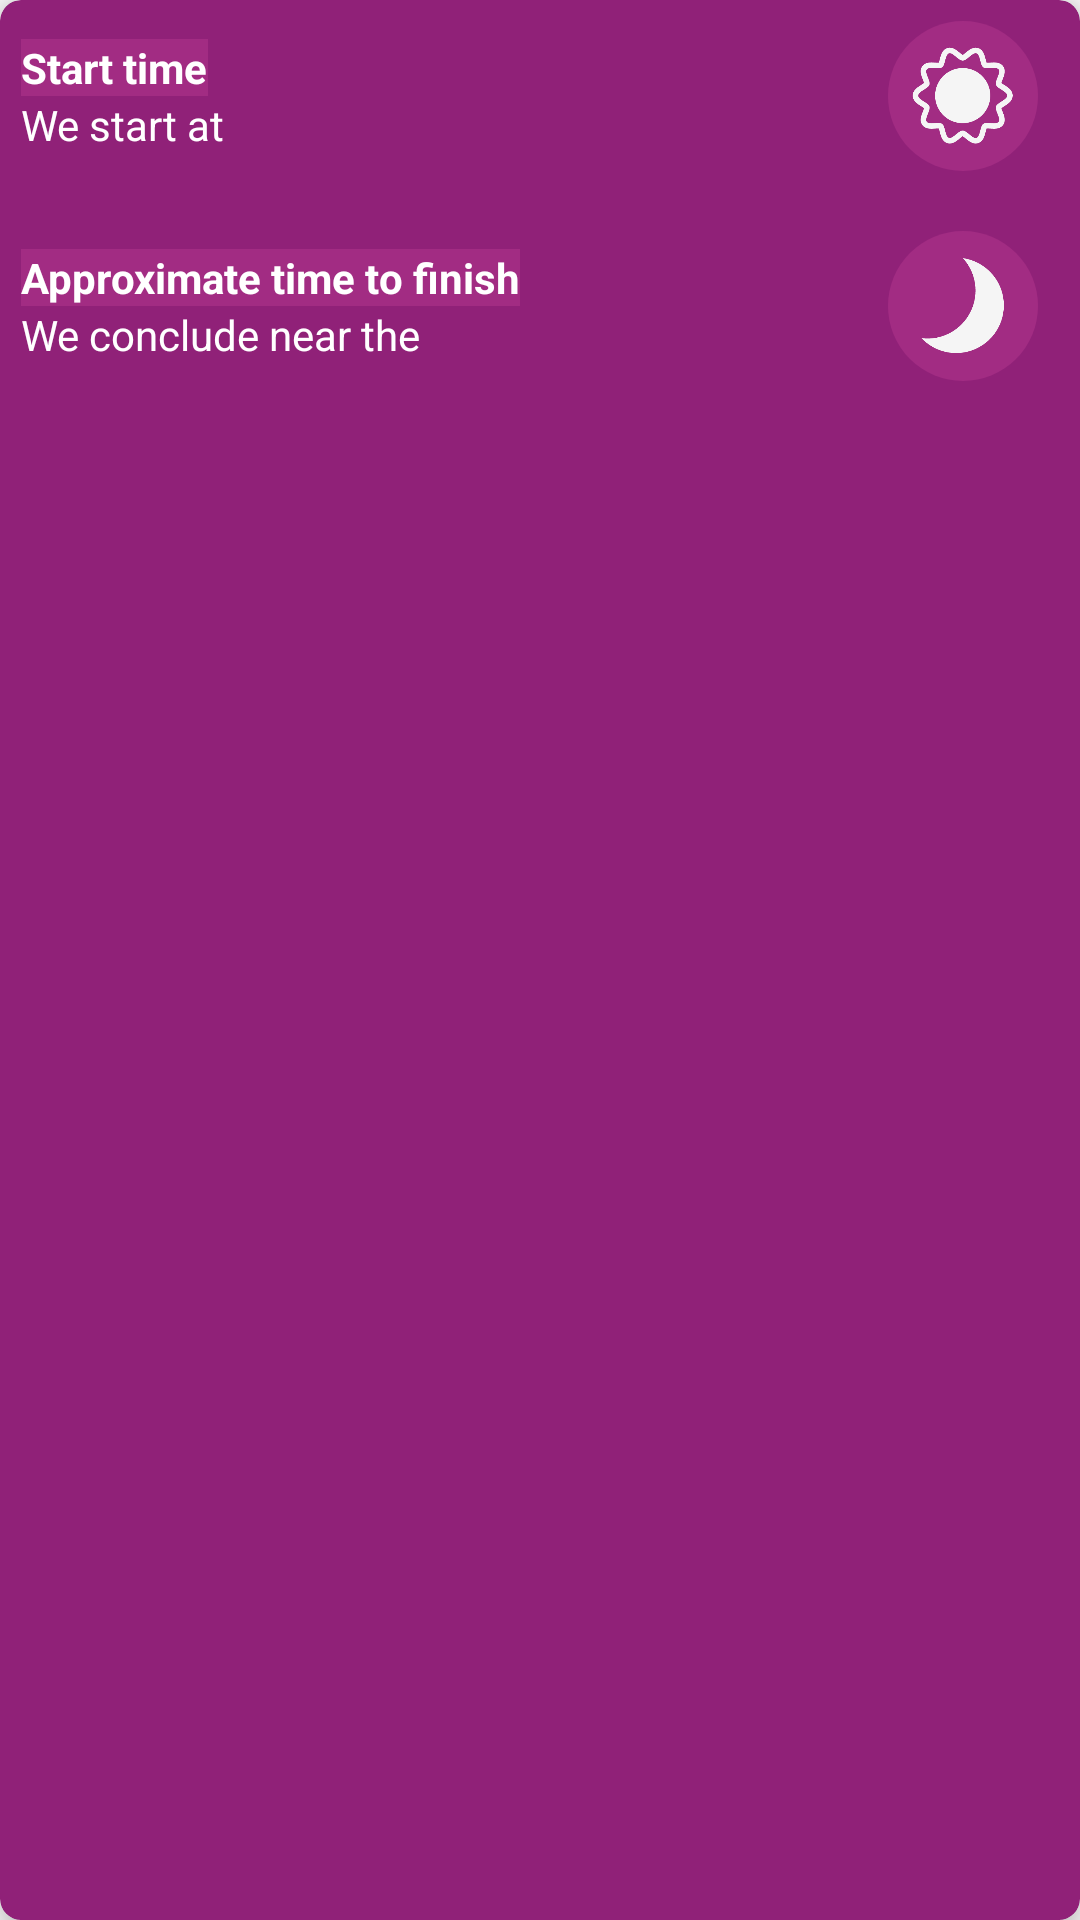

Locate icon controls on the screen. Image size 1080×1920, boxes as (x1, y1, x2, y2).
morning: (888, 21, 1038, 171)
night: (888, 231, 1038, 381)
